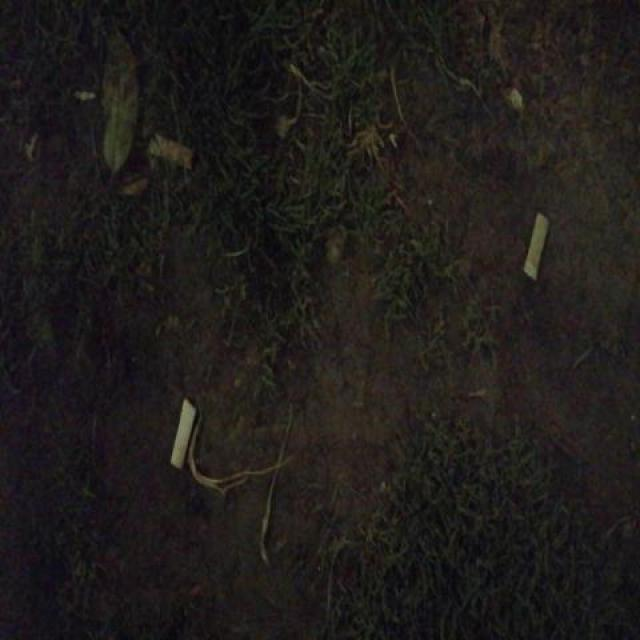non-organic waste: (165, 393, 204, 475), (143, 127, 198, 178), (520, 206, 553, 285)
